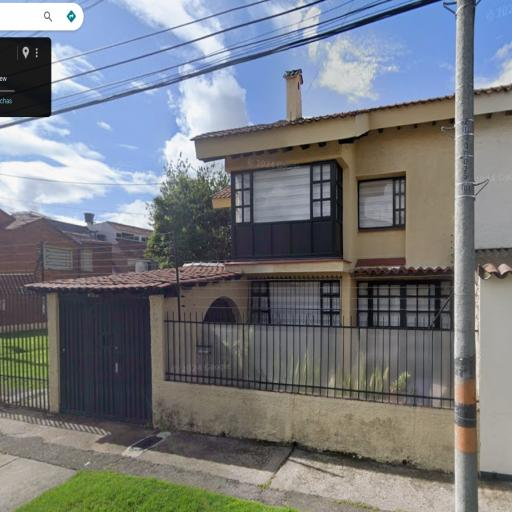Casa: (36, 69, 452, 472)
postes: (445, 2, 481, 512)
